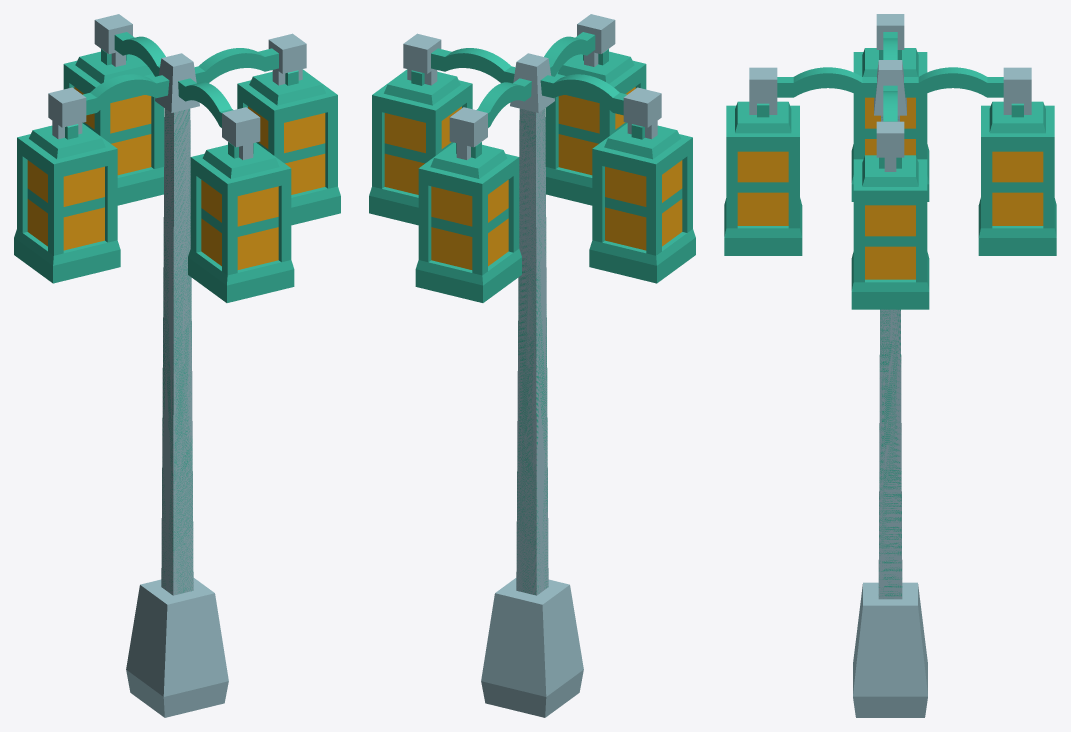
The model's file is lightpostAll.obj.
3 renders of one model, left to right at view 1: azimuth 30°, elevation 25°; view 2: azimuth 150°, elevation 25°; view 3: azimuth 270°, elevation 25°, orthographic.
Visible parts, largest first — view 1: lightpostAll; view 2: lightpostAll; view 3: lightpostAll.
Part boxes in pixels (x1,y1,x2,y2): lightpostAll: [14, 14, 340, 717]; lightpostAll: [369, 14, 695, 717]; lightpostAll: [724, 14, 1056, 717].
Bounding box in the file's own units: 0.6225 × 1.32 × 0.6225.
